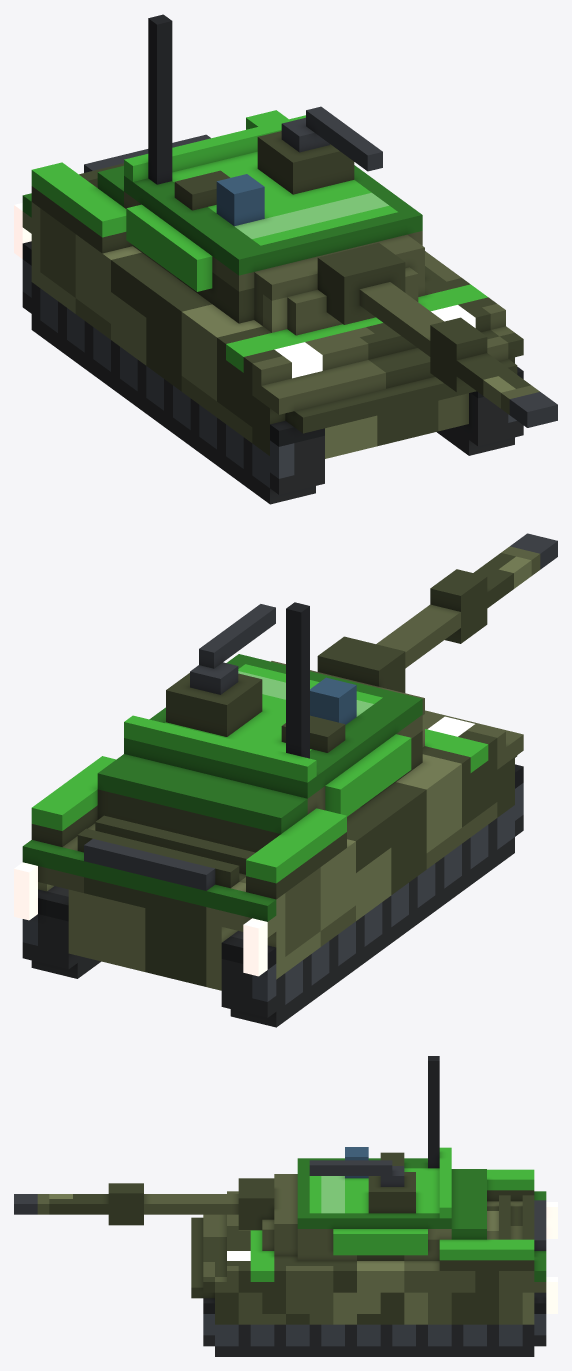
File: cm_tank_3.glb
3 views of the same model, one above another, from view 1: azimuth 30°, elevation 25°; view 2: azimuth 150°, elevation 25°; view 3: azimuth 270°, elevation 25° (orthographic). The views are drawn at different scales.
Visible parts, largest first — view 1: cm_tank_3_body; view 2: cm_tank_3_body; view 3: cm_tank_3_body.
Boxes of the visible parts, box(x1,y1,x2,y2) form: cm_tank_3_body: box(14, 14, 557, 504); cm_tank_3_body: box(14, 533, 557, 1027); cm_tank_3_body: box(14, 1056, 557, 1356).
Size of the model in its own units: 1 by 1.38 by 2.88.
1 material, 1 textured.
